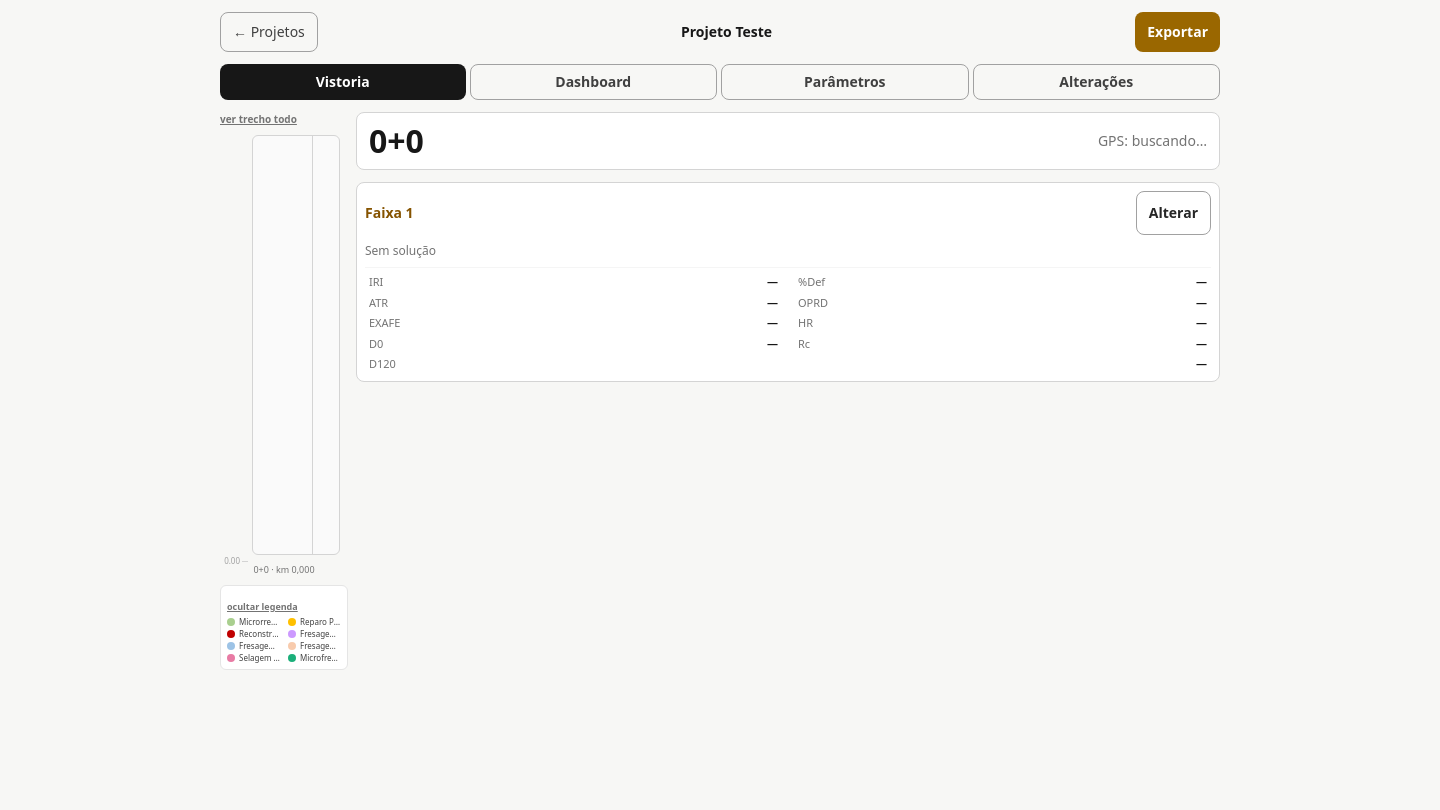
Scenario: VistoriaScreen — Alterações reflete alteração confirmada (regressão pós-rodada-3) › confirmar uma alteração de solução (Confirmar + Concluir) aparece imediatamente na aba Alterações, na lista e no contador
The image size is (1440, 810).
What coordinates should you click on to do the following:
click the button "Alterar"
I would click on:
 (1173, 213)
Its box is [1136,191,1211,235].
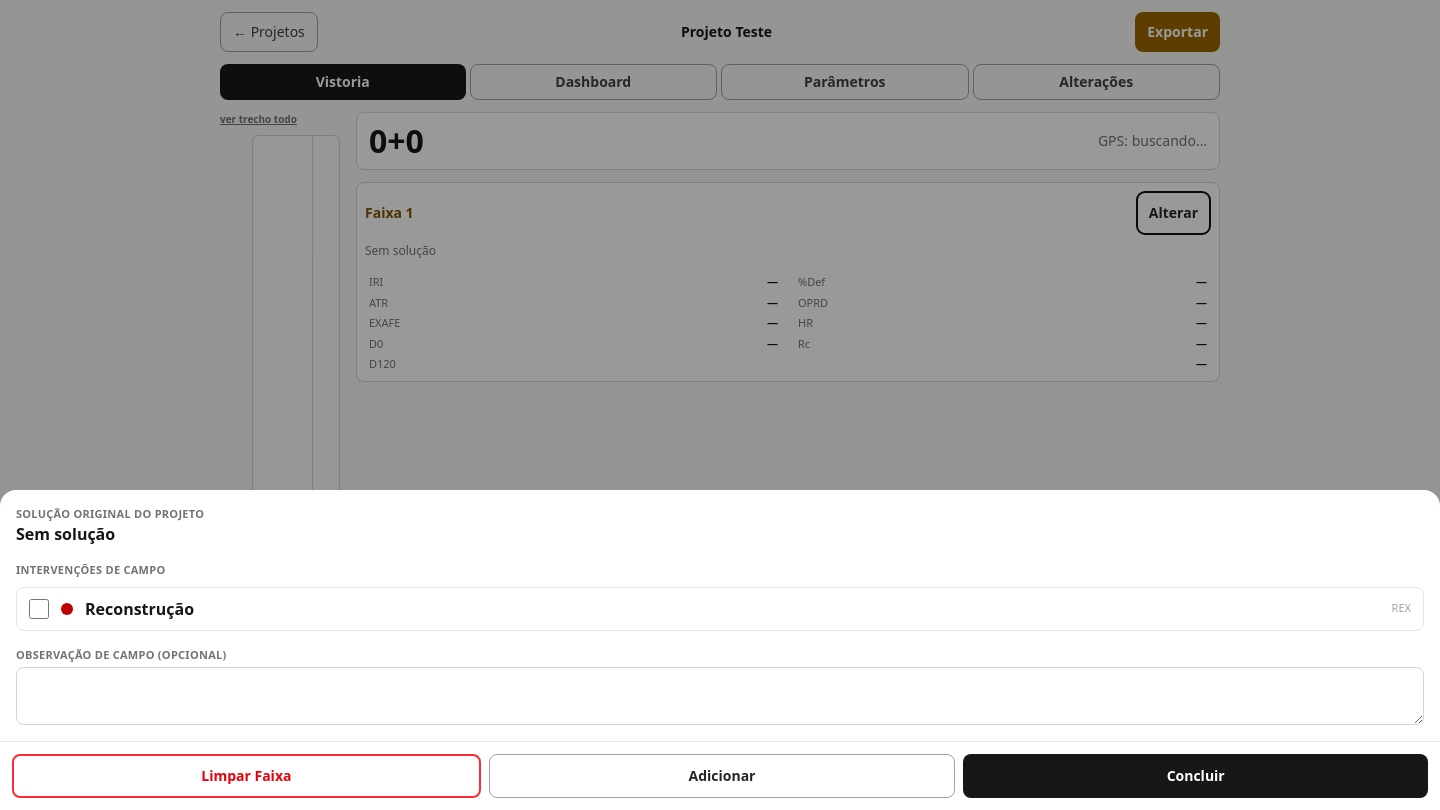
What coordinates should you click on to do the following:
click the text "Reconstrução"
I would click on:
 (140, 608)
Its box is [85,596,194,620].
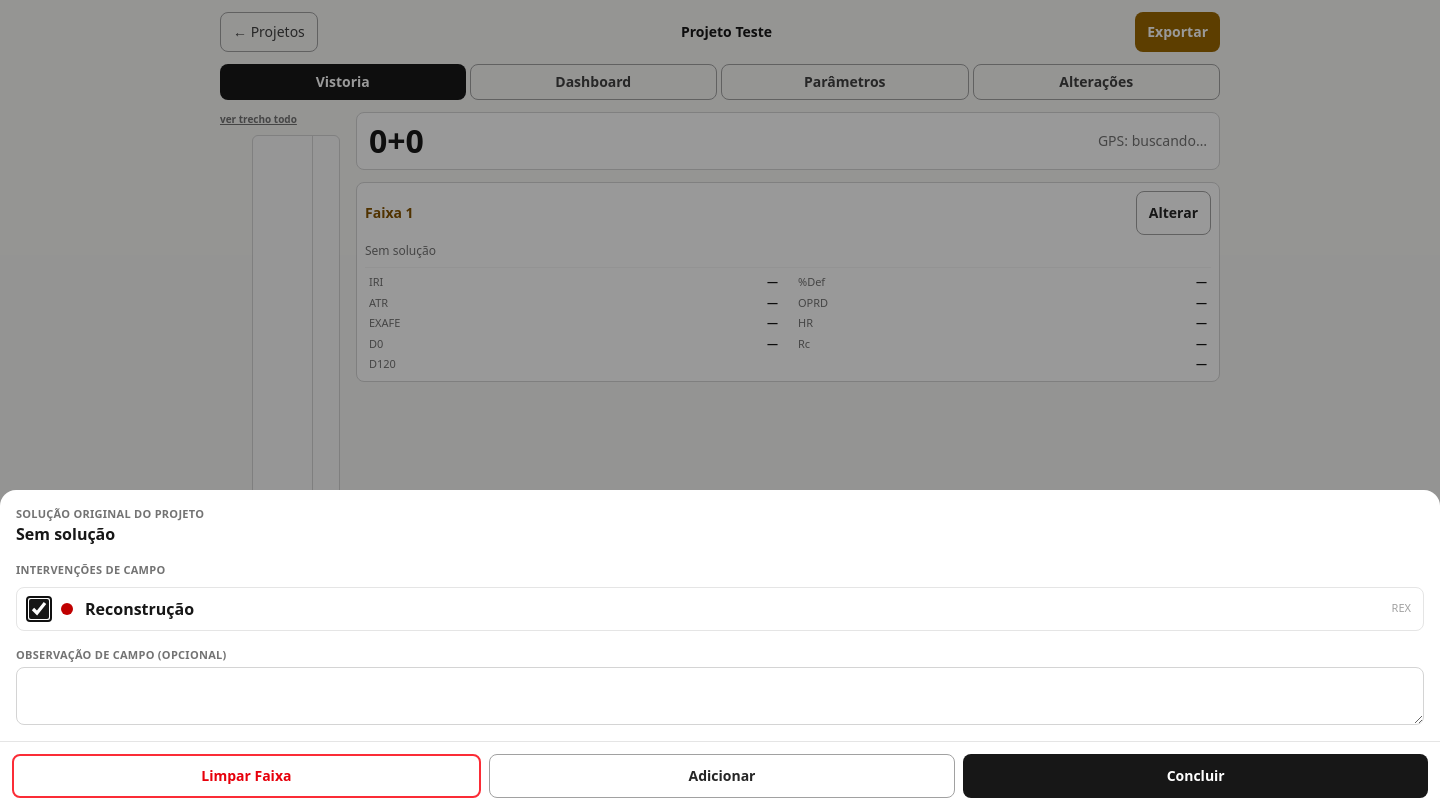
What coordinates should you click on to do the following:
click the button "Adicionar"
I would click on:
 (722, 776)
Its box is [489,754,955,798].
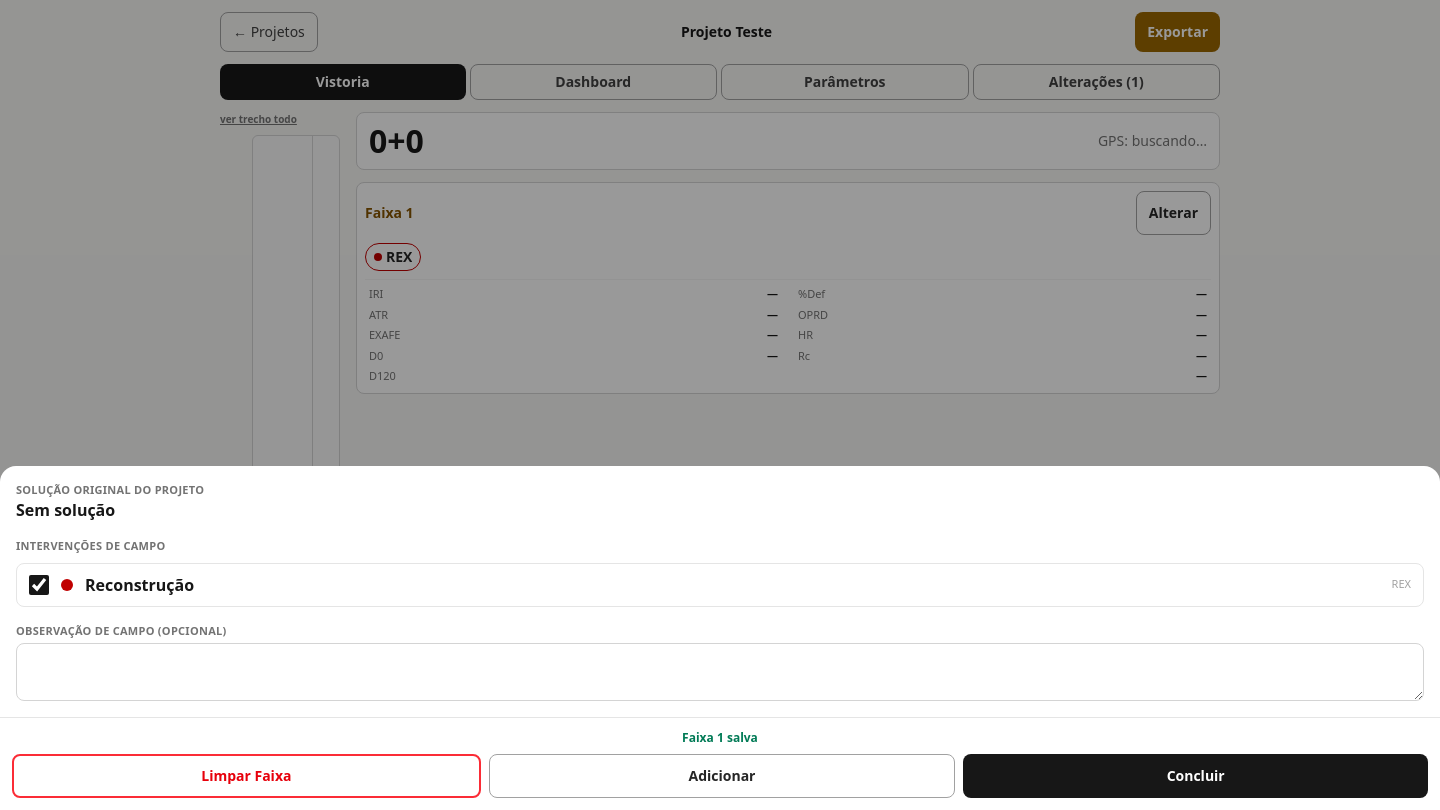
Now the text "Faixa 1 salva" is shown, box [682,729,758,746]
What coordinates should you click on to do the following:
click the button "Concluir"
I would click on:
 (1196, 776)
Its box is [963,754,1428,798].
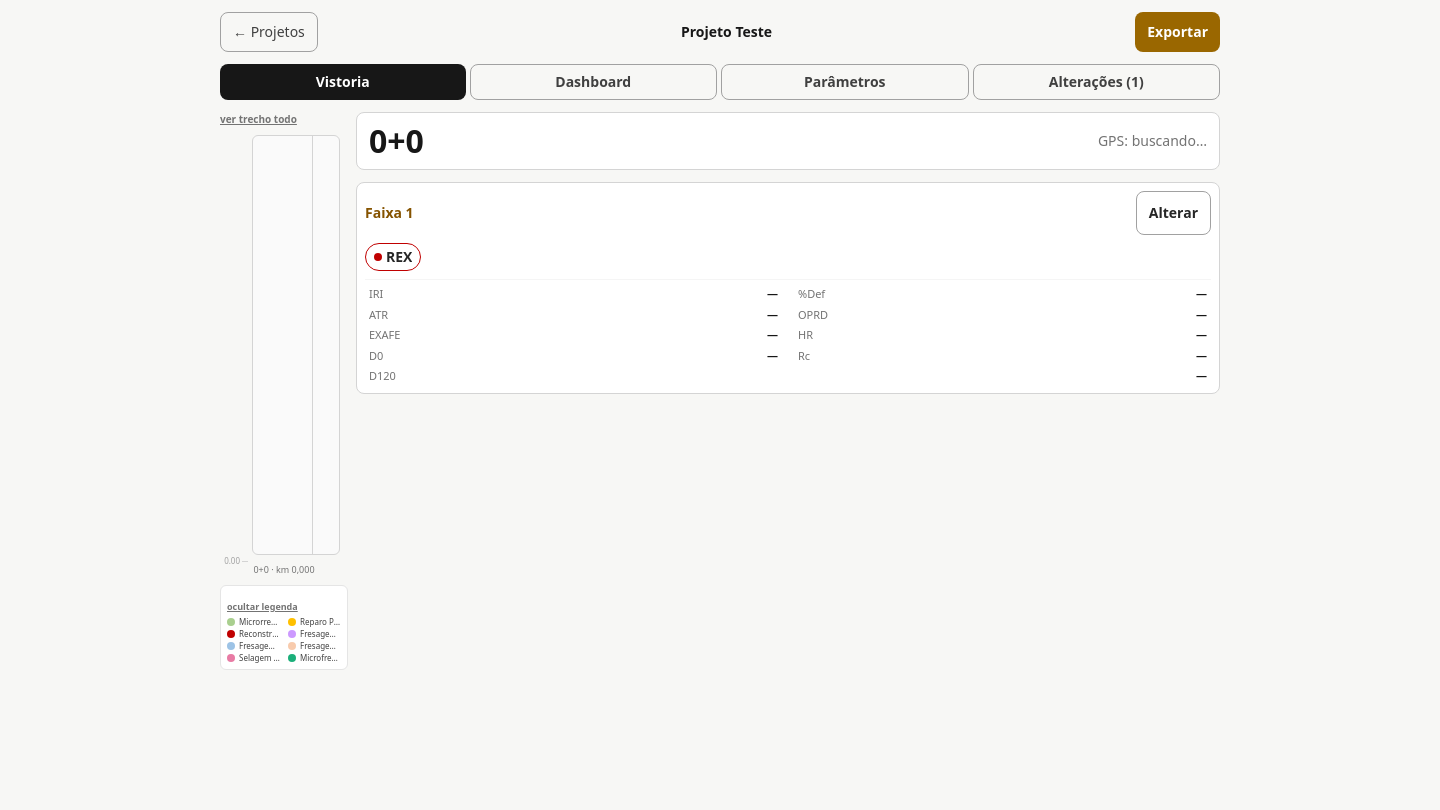
Now the button "Alterações (1)" is shown
Now the text "Solução original do projeto" is gone
What coordinates should you click on to do the following:
click the button "Alterações (1)"
I would click on:
 (1096, 82)
Its box is [972,64,1220,100].
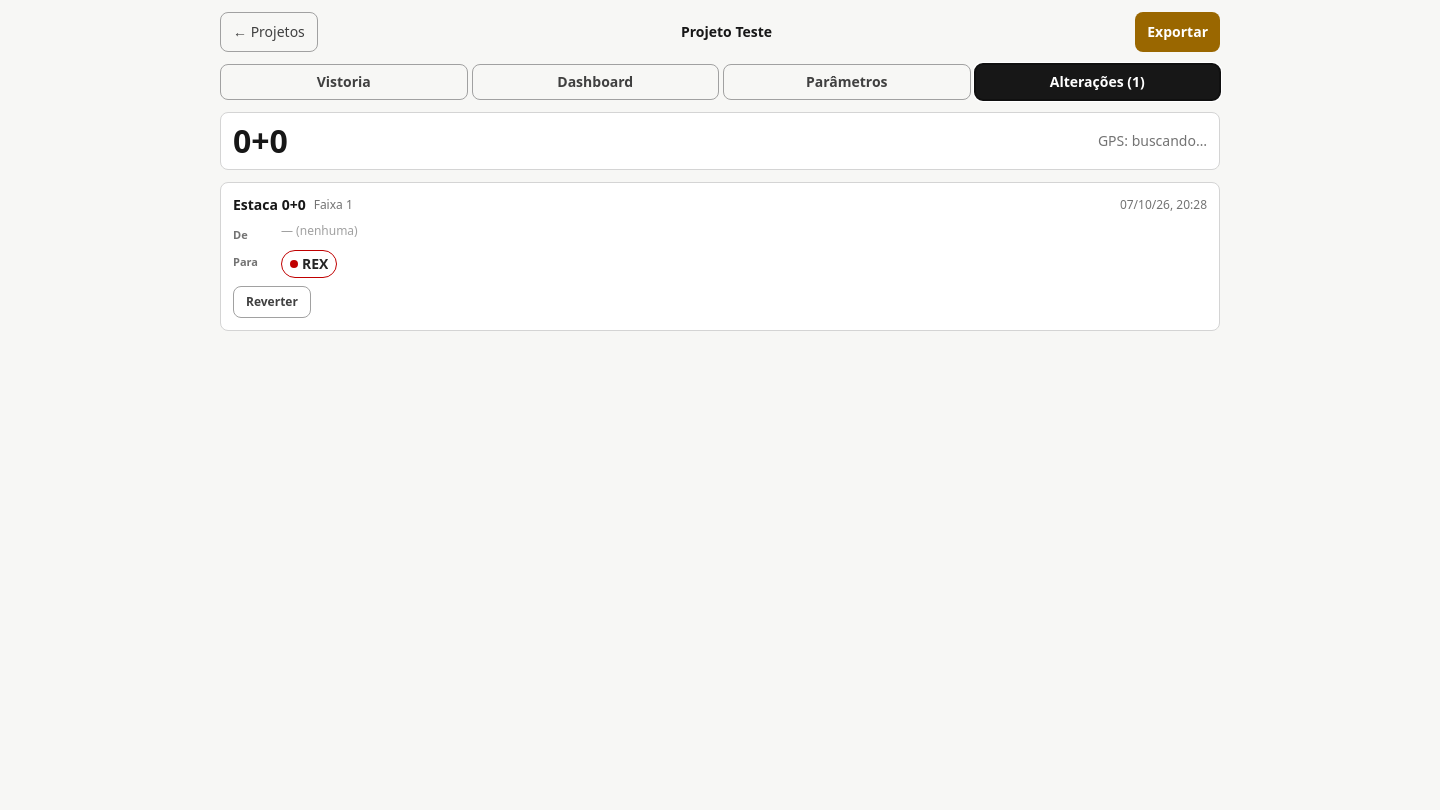
Expected: the text "Faixa 1" is shown, [314,197,353,213]
Now the text "REX" is shown, box [302,254,328,274]
Now the button "Reverter" is shown, box [233,286,311,318]
